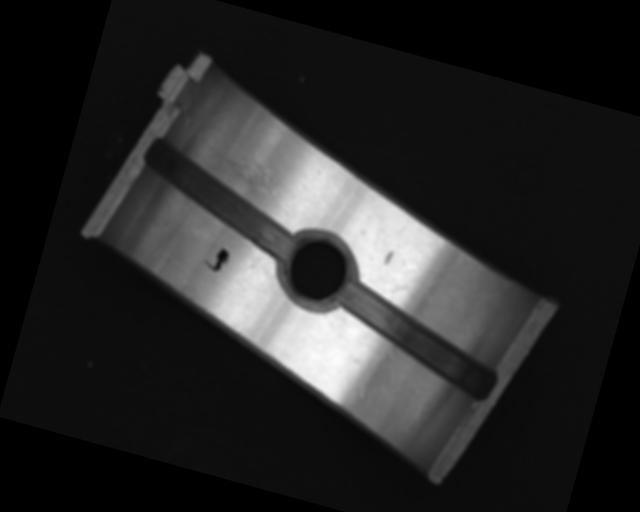blot: (201, 242, 232, 275)
bruise: (383, 249, 395, 266)
gap: (126, 136, 312, 264), (323, 278, 511, 401)
hole: (271, 229, 361, 316)
scratch: (195, 144, 292, 213)
